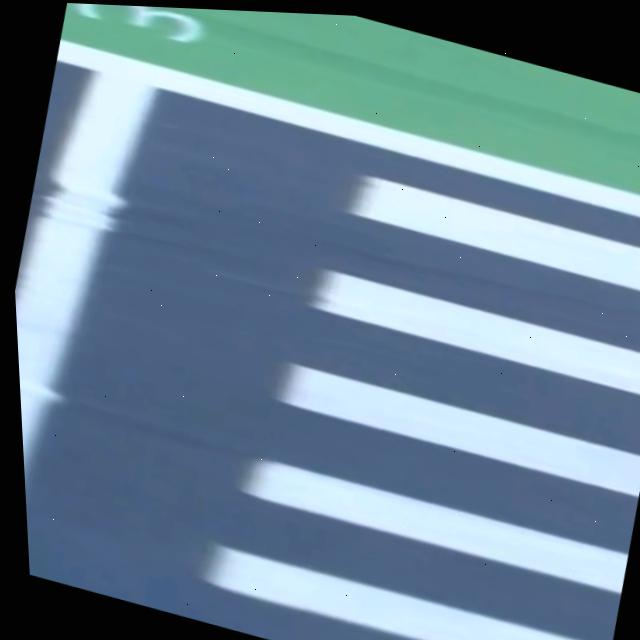right: (55, 39, 640, 218)
